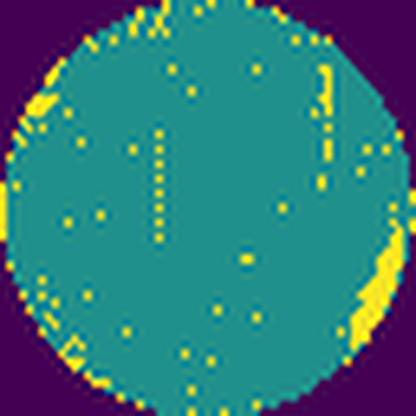Edge-Loc: (340, 210, 410, 358)
